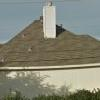Chimney: (35, 2, 70, 52)
